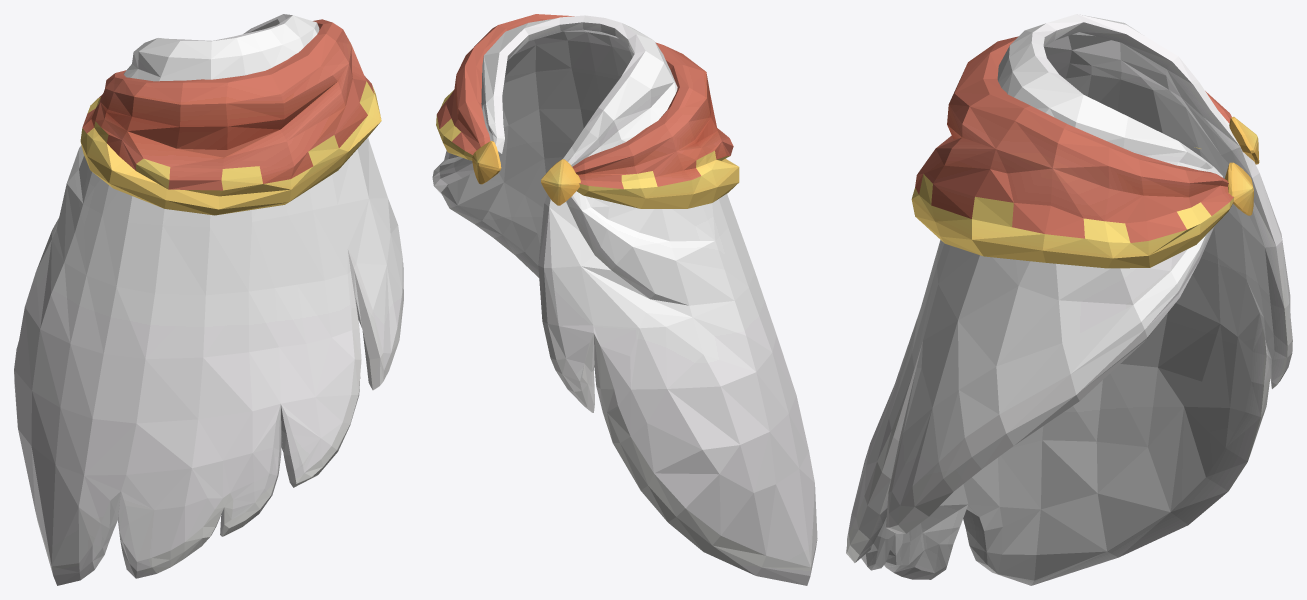
The model's file is CharSkyKid_Wing_AP28BirdWhisperer.glb.
3 renders of one model, left to right at view 1: azimuth 30°, elevation 25°; view 2: azimuth 150°, elevation 25°; view 3: azimuth 270°, elevation 25°, orthographic. The views are drawn at different scales.
Parts seen in each view (by area): view 1: CharSkyKid_Wing_AP28BirdWhisperer; view 2: CharSkyKid_Wing_AP28BirdWhisperer; view 3: CharSkyKid_Wing_AP28BirdWhisperer.
Boxes of the visible parts, <box> form: CharSkyKid_Wing_AP28BirdWhisperer: <box>14,14,403,585</box>; CharSkyKid_Wing_AP28BirdWhisperer: <box>432,14,817,585</box>; CharSkyKid_Wing_AP28BirdWhisperer: <box>846,14,1292,585</box>.
Size of the model in its own units: 5.75 by 8.18 by 4.94.
1 material, 1 textured.
